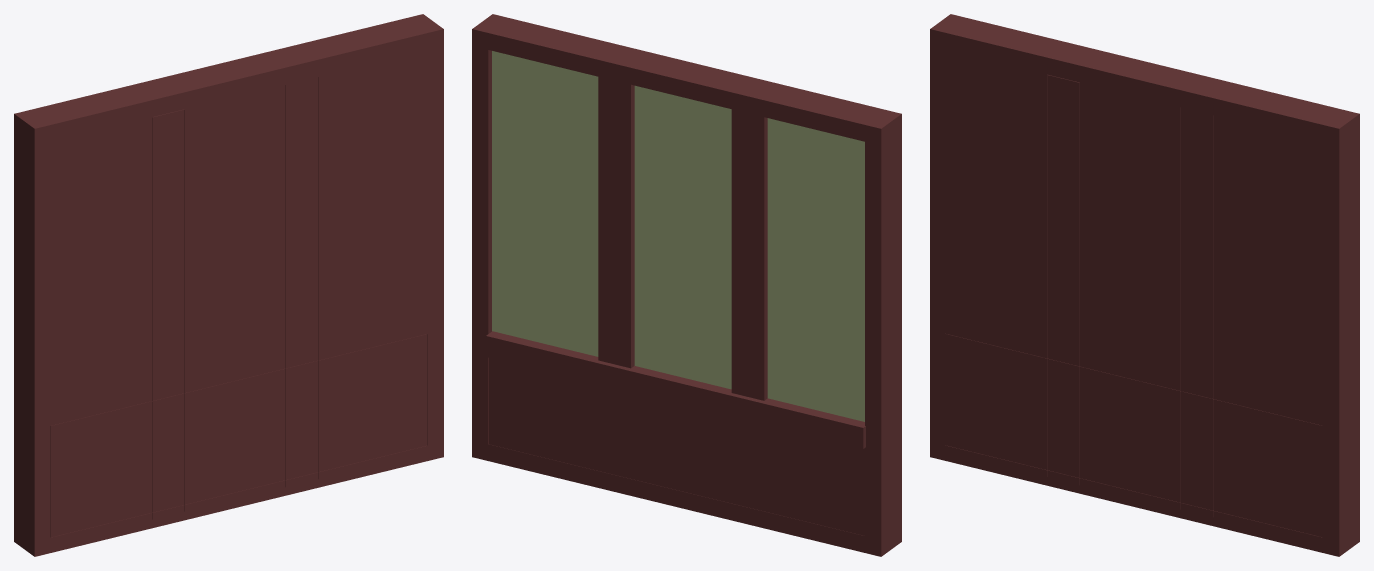
File: Wall_200_04.fbx
3 views of the same model, side by side, from view 1: azimuth 30°, elevation 25°; view 2: azimuth 150°, elevation 25°; view 3: azimuth 330°, elevation 25° (orthographic).
Visible parts, largest first — view 1: Wall_200_K_04; view 2: Wall_200_K_04; view 3: Wall_200_K_04.
Part boxes in pixels (x1=…): Wall_200_K_04: x1=14, y1=14, x2=443, y2=556; Wall_200_K_04: x1=472, y1=14, x2=901, y2=556; Wall_200_K_04: x1=930, y1=14, x2=1359, y2=556.
Bounding box in the file's own units: 2 × 2 × 0.2.
